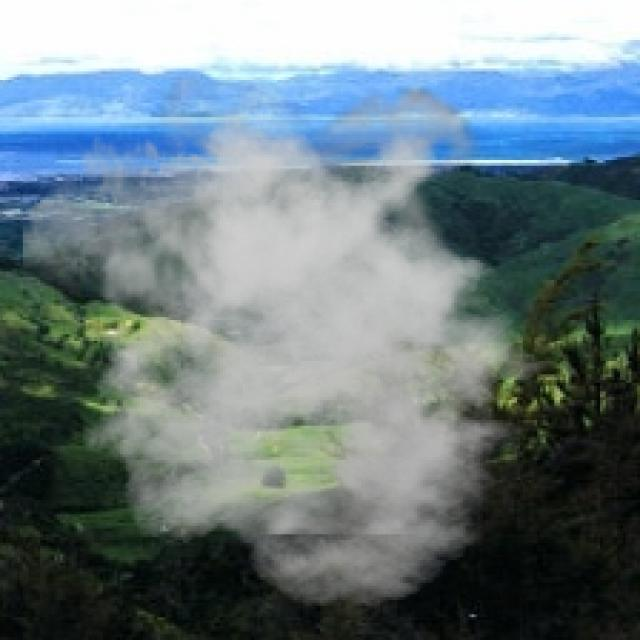Smoke: (22, 77, 572, 609)
